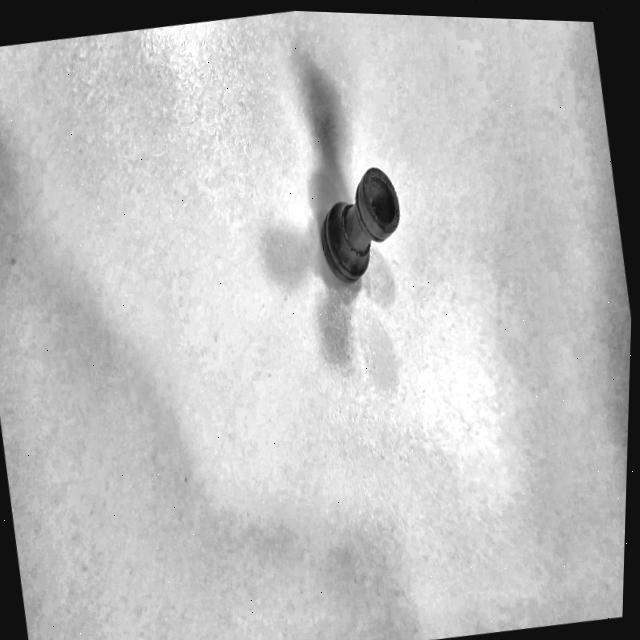black-rook: (295, 132, 426, 320)
